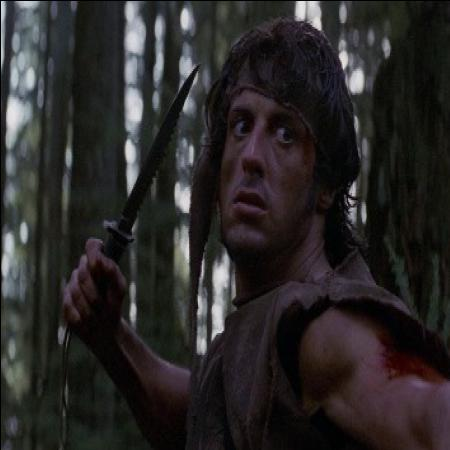long weapon: (57, 52, 206, 322)
